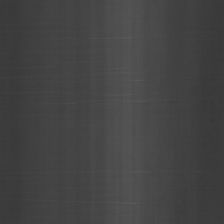waist_folding: (81, 24, 155, 170)
